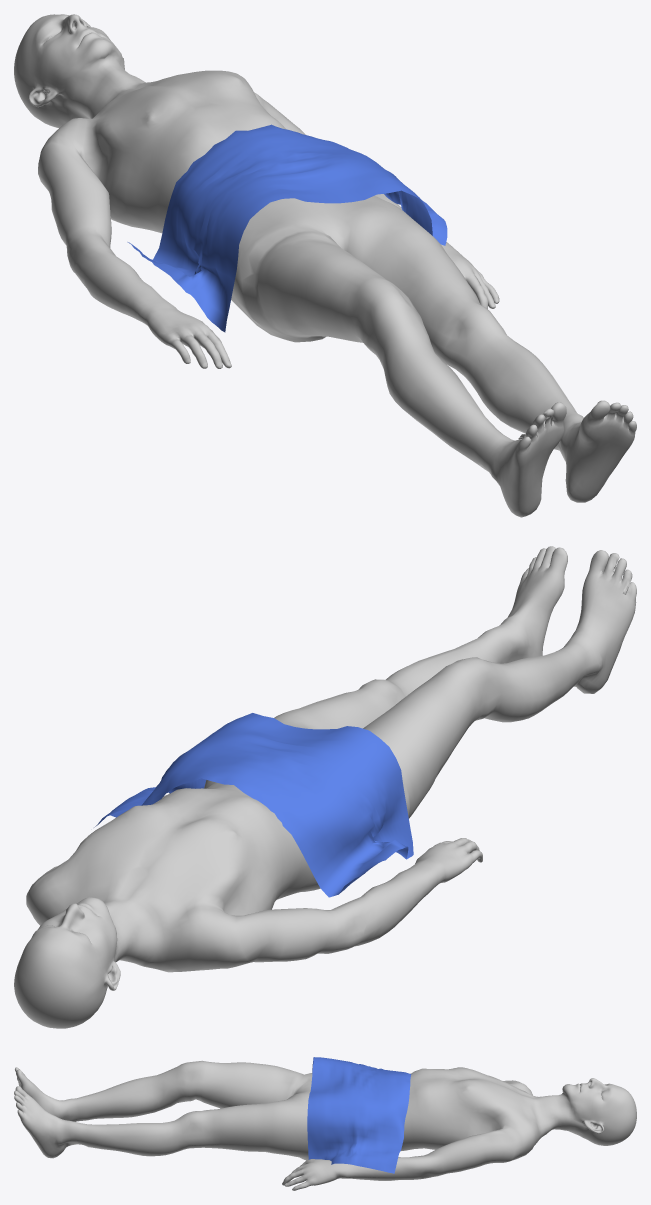
File: knee-patientfbx.fbx
3 renders of one model, top to bottom at view 1: azimuth 30°, elevation 25°; view 2: azimuth 150°, elevation 25°; view 3: azimuth 270°, elevation 25°, orthographic. The views are drawn at different scales.
Parts seen in each view (by area): view 1: Body, Serviette; view 2: Body, Serviette; view 3: Body, Serviette.
Part boxes in pixels (x1,y1,x2,y2): Body: (14, 14, 636, 517); Serviette: (127, 124, 447, 332); Body: (14, 546, 636, 1028); Serviette: (94, 713, 413, 897); Body: (14, 1060, 636, 1190); Serviette: (307, 1057, 411, 1173).
Size of the model in its own units: 65.84 by 28.89 by 198.
